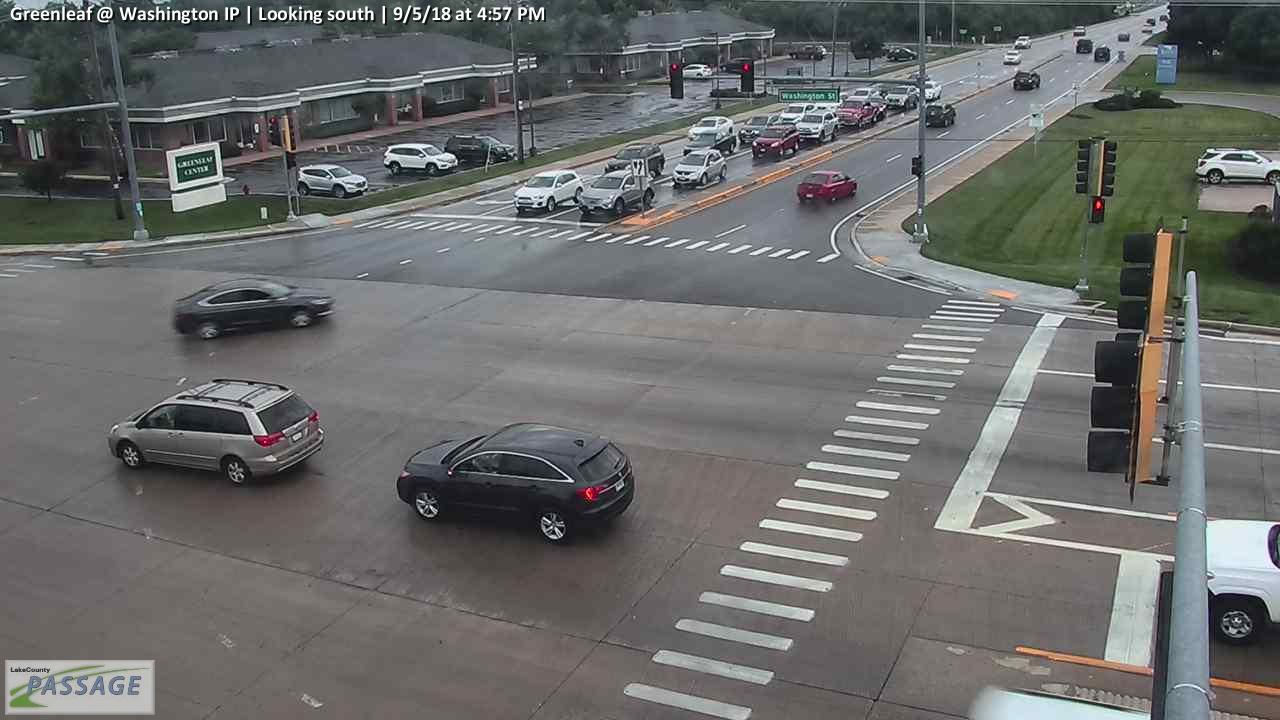SUV: (105, 377, 323, 486), (380, 141, 458, 176), (441, 131, 518, 166), (295, 163, 368, 198), (793, 109, 841, 141)
Sedan: (397, 420, 636, 545), (168, 277, 335, 340), (577, 169, 655, 218), (1193, 146, 1280, 184), (513, 170, 585, 215), (602, 140, 666, 181), (669, 148, 727, 190), (796, 168, 858, 204), (750, 124, 801, 160), (680, 128, 737, 160), (831, 96, 879, 131), (684, 116, 735, 146), (777, 102, 818, 127), (882, 85, 919, 112), (923, 101, 957, 127), (787, 44, 828, 61), (1012, 68, 1041, 91), (913, 80, 943, 102), (678, 63, 714, 79), (886, 46, 918, 62), (1002, 49, 1023, 65), (1094, 46, 1111, 63), (1013, 35, 1033, 49), (1076, 38, 1094, 53), (1072, 25, 1086, 36)
